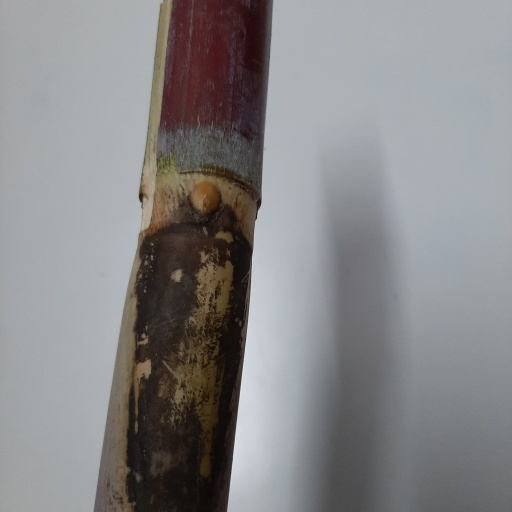Bud: (187, 181, 222, 216)
